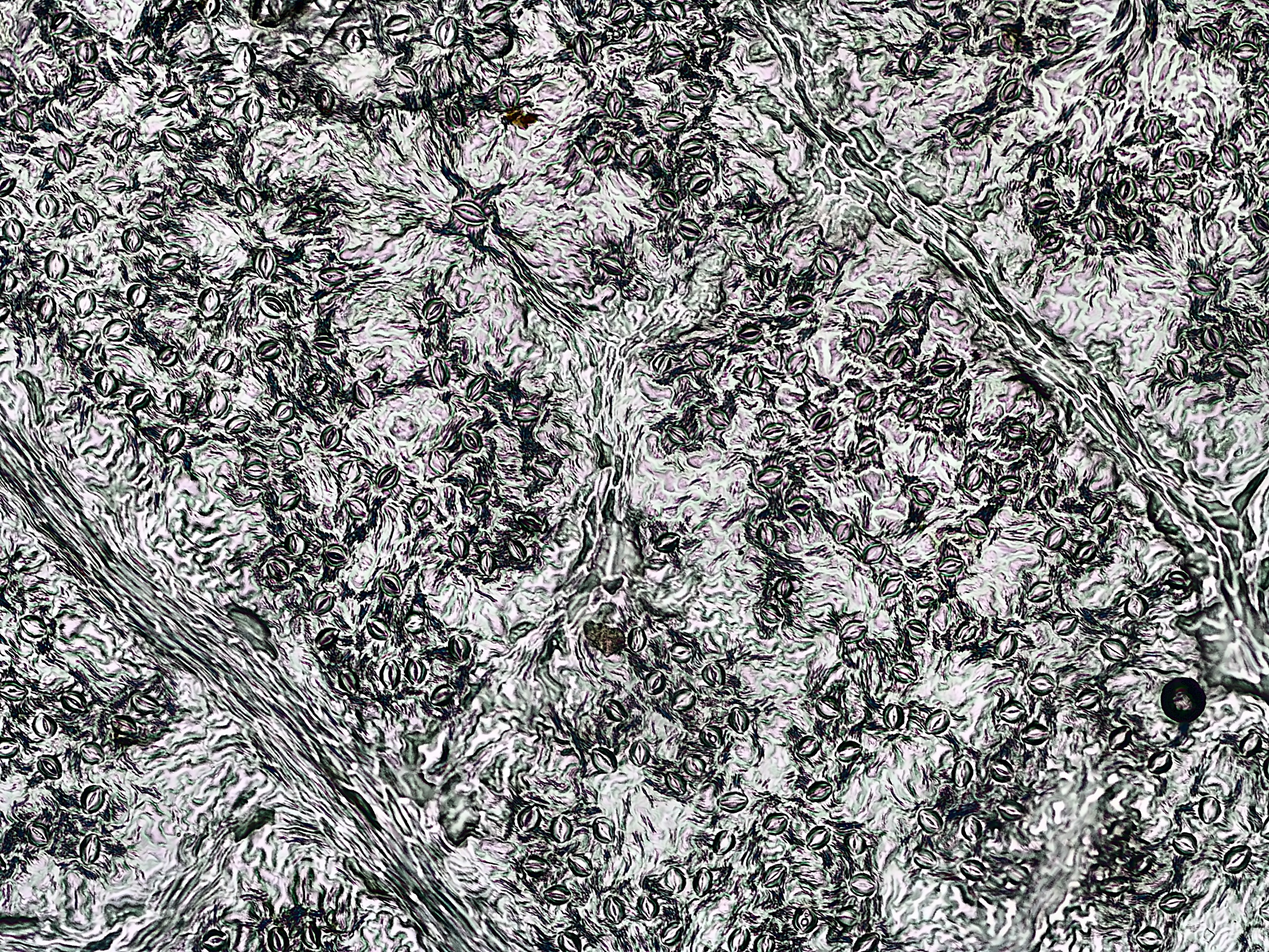stomata: (451, 201, 487, 226), (1221, 845, 1252, 874), (43, 249, 68, 280), (435, 16, 459, 47), (254, 247, 277, 279), (72, 204, 98, 232), (80, 784, 105, 813), (573, 32, 595, 64), (465, 373, 491, 400), (342, 25, 367, 53), (391, 64, 419, 89), (1223, 354, 1252, 378), (404, 655, 427, 685), (18, 614, 48, 637), (32, 712, 58, 738), (590, 747, 617, 772), (761, 863, 788, 888), (420, 298, 448, 322), (129, 694, 161, 715), (518, 804, 542, 832), (716, 791, 748, 812), (794, 906, 818, 934), (74, 289, 97, 318), (258, 296, 287, 319), (839, 620, 868, 643), (477, 2, 507, 24), (79, 833, 100, 864), (364, 617, 391, 641), (160, 127, 187, 151), (1, 218, 25, 245), (447, 634, 470, 662), (159, 85, 187, 108), (601, 699, 629, 722), (235, 42, 255, 74), (656, 111, 688, 131), (786, 295, 815, 317), (603, 894, 624, 924), (1188, 274, 1218, 295), (1124, 594, 1149, 619), (376, 463, 400, 489), (309, 590, 335, 614), (161, 427, 185, 453), (925, 708, 949, 734), (1172, 832, 1198, 856), (884, 342, 908, 368), (197, 287, 220, 314), (988, 759, 1015, 782), (1038, 230, 1065, 253), (55, 142, 75, 173), (276, 438, 304, 460), (360, 99, 382, 127), (234, 187, 256, 215), (497, 81, 519, 109), (848, 874, 876, 896), (835, 740, 863, 762), (1158, 891, 1186, 913), (1199, 795, 1221, 823), (995, 631, 1017, 659), (1100, 638, 1128, 660), (951, 116, 979, 138), (520, 856, 549, 877), (1027, 674, 1056, 695), (756, 466, 785, 487), (49, 11, 74, 35), (126, 40, 151, 64), (383, 14, 413, 34), (36, 755, 61, 779), (698, 724, 722, 749), (918, 809, 943, 833), (1148, 749, 1172, 774), (1108, 725, 1132, 750), (125, 388, 151, 411), (878, 575, 904, 598), (314, 627, 341, 649), (285, 38, 312, 60), (103, 319, 130, 341), (206, 389, 228, 416), (762, 812, 789, 834), (806, 780, 833, 802), (1136, 926, 1163, 948), (729, 924, 750, 952), (1167, 354, 1188, 382), (996, 800, 1025, 820), (934, 398, 963, 418), (854, 326, 874, 355), (712, 830, 736, 854), (592, 817, 615, 842), (1089, 499, 1112, 524), (1000, 78, 1023, 103), (427, 449, 449, 475), (408, 494, 430, 520), (319, 424, 341, 450), (121, 227, 143, 253), (78, 742, 104, 764), (550, 816, 572, 842), (567, 854, 593, 876), (951, 760, 973, 786), (355, 380, 374, 410), (96, 370, 117, 397), (1247, 316, 1268, 343), (380, 660, 400, 688), (300, 921, 320, 949), (1021, 725, 1049, 745), (810, 451, 838, 471), (940, 24, 971, 42), (211, 118, 235, 141), (631, 145, 654, 169), (69, 329, 93, 352), (25, 822, 48, 846), (1043, 526, 1067, 549), (815, 252, 838, 276), (337, 669, 359, 694), (430, 684, 455, 706), (202, 929, 227, 951), (806, 826, 831, 848), (786, 351, 808, 376), (728, 707, 749, 733), (962, 815, 983, 841), (891, 662, 917, 683), (755, 521, 776, 547), (742, 363, 763, 389), (36, 295, 56, 322), (692, 868, 712, 895), (999, 702, 1026, 722), (1032, 193, 1059, 213), (1087, 212, 1106, 240), (1043, 142, 1062, 170), (517, 514, 545, 533), (505, 540, 528, 563), (266, 558, 289, 581), (126, 284, 149, 307), (211, 349, 234, 372), (863, 541, 886, 564), (76, 40, 98, 64), (589, 141, 611, 165), (665, 771, 687, 795), (702, 662, 724, 686), (833, 519, 855, 543), (965, 516, 989, 538), (810, 409, 834, 431), (671, 688, 695, 710), (209, 85, 234, 106), (267, 926, 288, 951), (1052, 614, 1077, 635), (644, 669, 665, 694), (157, 252, 186, 270), (318, 267, 347, 285), (1045, 34, 1074, 52), (314, 86, 334, 112), (605, 92, 625, 118), (255, 340, 281, 360), (960, 860, 986, 880), (1027, 582, 1053, 602), (110, 715, 137, 734), (544, 885, 571, 904), (680, 138, 707, 157), (1126, 217, 1145, 244), (337, 458, 359, 481), (272, 398, 295, 420), (278, 489, 300, 512), (660, 922, 683, 944), (1240, 732, 1262, 755), (1074, 540, 1097, 562), (897, 398, 920, 420), (513, 402, 541, 420), (36, 194, 57, 218), (447, 101, 465, 129), (630, 21, 654, 42), (659, 42, 687, 60), (913, 848, 937, 869), (883, 704, 904, 728), (706, 408, 730, 429), (736, 324, 764, 342), (598, 258, 626, 276), (899, 50, 920, 74), (637, 894, 657, 919), (815, 697, 840, 717), (953, 622, 978, 642), (665, 424, 690, 444), (243, 97, 262, 123), (630, 740, 649, 766), (431, 357, 448, 386), (72, 78, 99, 96), (460, 429, 481, 452), (344, 498, 367, 519), (285, 533, 306, 556), (379, 574, 402, 595), (278, 87, 299, 110), (664, 868, 685, 891), (796, 735, 819, 756), (844, 832, 865, 855), (905, 619, 928, 640), (898, 304, 919, 327), (324, 546, 348, 566), (166, 390, 186, 414), (678, 219, 702, 239), (936, 558, 964, 575), (1075, 690, 1100, 709), (965, 465, 984, 490), (683, 81, 708, 100), (1143, 117, 1162, 142), (627, 626, 646, 651), (656, 533, 682, 551), (225, 415, 251, 433), (58, 693, 84, 711), (1219, 144, 1237, 170), (683, 755, 705, 776), (404, 613, 427, 633), (11, 109, 31, 132), (610, 4, 633, 24), (910, 485, 933, 505), (689, 174, 712, 194), (656, 189, 679, 209), (467, 484, 491, 503), (112, 127, 131, 151), (787, 497, 811, 516), (309, 370, 327, 395), (741, 205, 766, 223), (1154, 176, 1172, 201), (1092, 157, 1108, 185), (243, 461, 269, 478), (760, 422, 786, 439), (856, 436, 878, 456), (689, 348, 711, 368), (652, 352, 672, 374), (1203, 327, 1222, 350), (1193, 186, 1212, 209), (1117, 178, 1136, 201), (1102, 74, 1121, 97), (669, 643, 692, 662), (450, 533, 468, 557), (98, 177, 125, 193), (1235, 42, 1259, 60), (759, 604, 783, 622), (664, 0, 685, 20), (855, 390, 875, 411), (1036, 433, 1055, 455), (479, 550, 495, 576), (137, 204, 163, 220), (930, 359, 956, 375), (530, 463, 553, 481), (835, 907, 858, 925), (1038, 485, 1056, 508), (180, 178, 204, 195), (697, 31, 721, 48), (297, 207, 324, 222), (760, 266, 779, 287), (1167, 571, 1190, 588), (998, 477, 1022, 493), (1202, 26, 1220, 47), (993, 2, 1016, 18), (158, 346, 177, 365), (313, 337, 337, 352), (774, 577, 792, 596), (1249, 110, 1268, 128), (1006, 423, 1028, 438), (1176, 150, 1194, 168), (916, 588, 935, 605)
